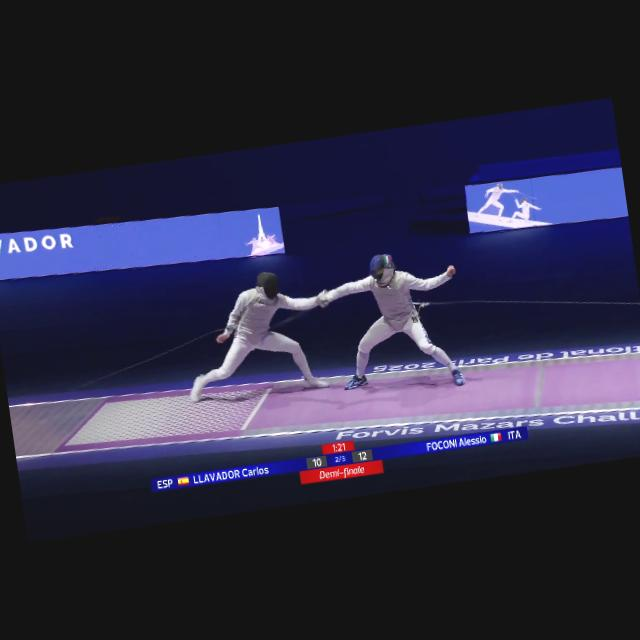blade: (250, 298, 331, 338)
